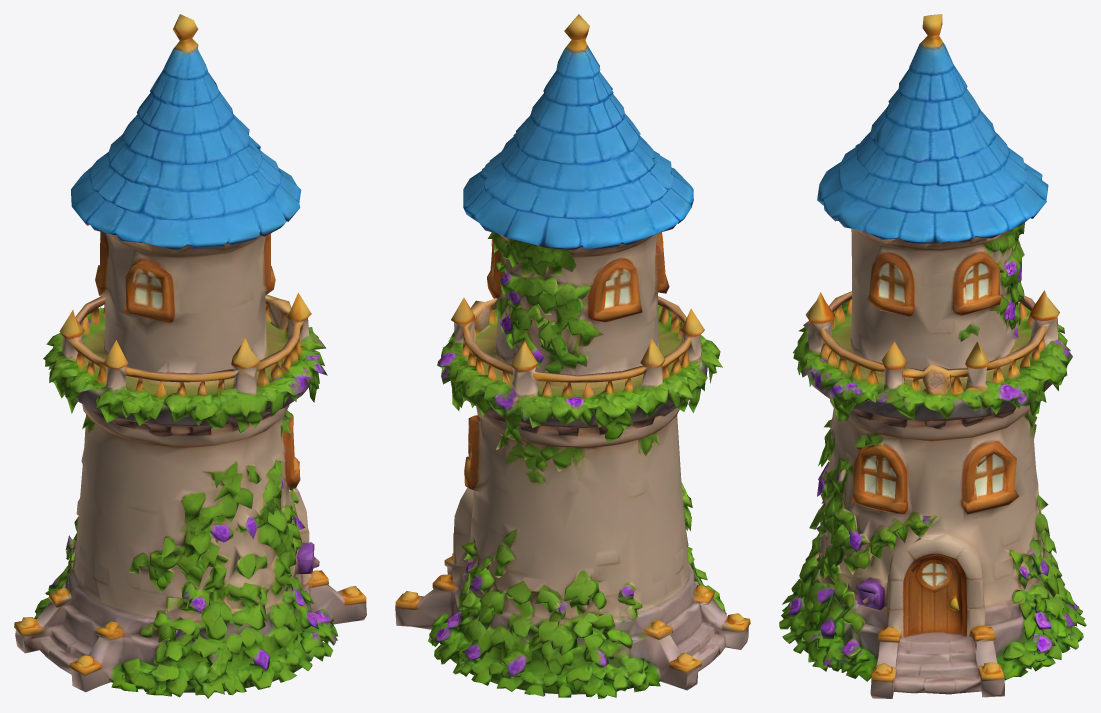
The model's file is wizard_tower.glb.
3 views of the same model, side by side, from view 1: azimuth 30°, elevation 25°; view 2: azimuth 150°, elevation 25°; view 3: azimuth 270°, elevation 25° (orthographic).
Parts seen in each view (by area): view 1: tripo_node_b5ddae2f-b9db-41ca-8f67-fda91046d91e; view 2: tripo_node_b5ddae2f-b9db-41ca-8f67-fda91046d91e; view 3: tripo_node_b5ddae2f-b9db-41ca-8f67-fda91046d91e.
Boxes of the visible parts, x1=… form: tripo_node_b5ddae2f-b9db-41ca-8f67-fda91046d91e: x1=14, y1=14, x2=366, y2=698; tripo_node_b5ddae2f-b9db-41ca-8f67-fda91046d91e: x1=395, y1=14, x2=750, y2=698; tripo_node_b5ddae2f-b9db-41ca-8f67-fda91046d91e: x1=779, y1=14, x2=1086, y2=698.
Bounding box in the file's own units: 0.251 × 0.5 × 0.2275.
1 material, 1 textured.
